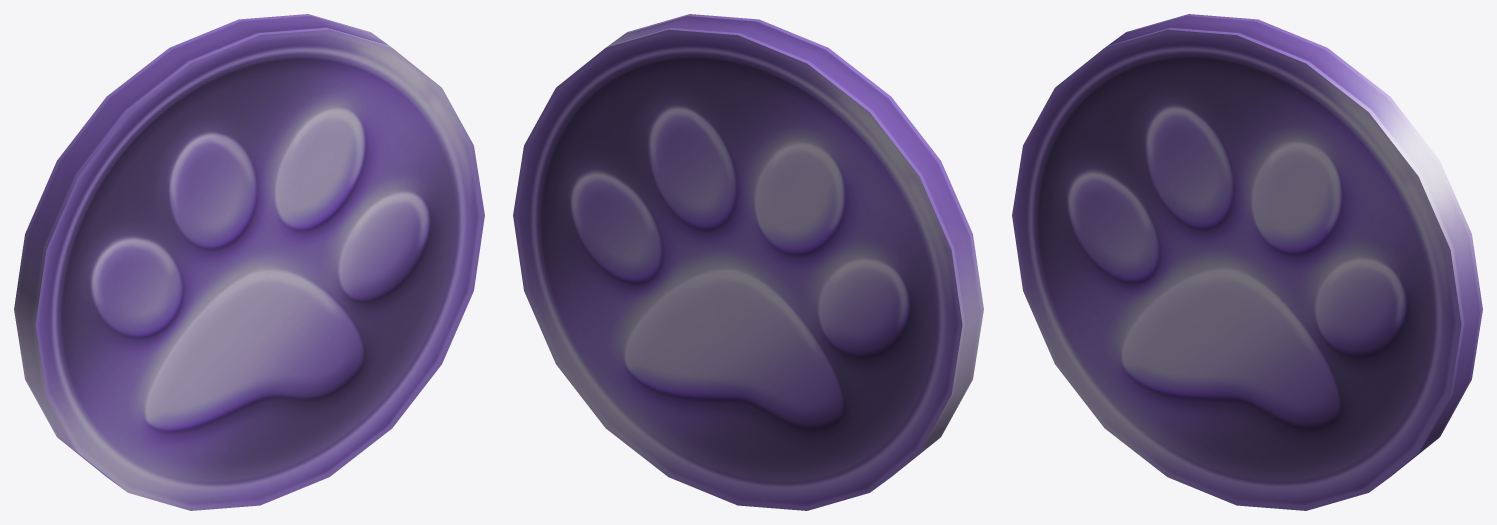
Rendered from coin.fbx.
The picture shows the model from 3 angles, left to right: view 1: azimuth 30°, elevation 25°; view 2: azimuth 150°, elevation 25°; view 3: azimuth 330°, elevation 25°; orthographic projection.
Parts seen in each view (by area): view 1: Coin_model; view 2: Coin_model; view 3: Coin_model.
Part boxes in pixels (x1=…): Coin_model: x1=14, y1=14, x2=484, y2=510; Coin_model: x1=513, y1=14, x2=983, y2=510; Coin_model: x1=1012, y1=14, x2=1482, y2=510.
Bounding box in the file's own units: 20 × 20 × 1.65.
